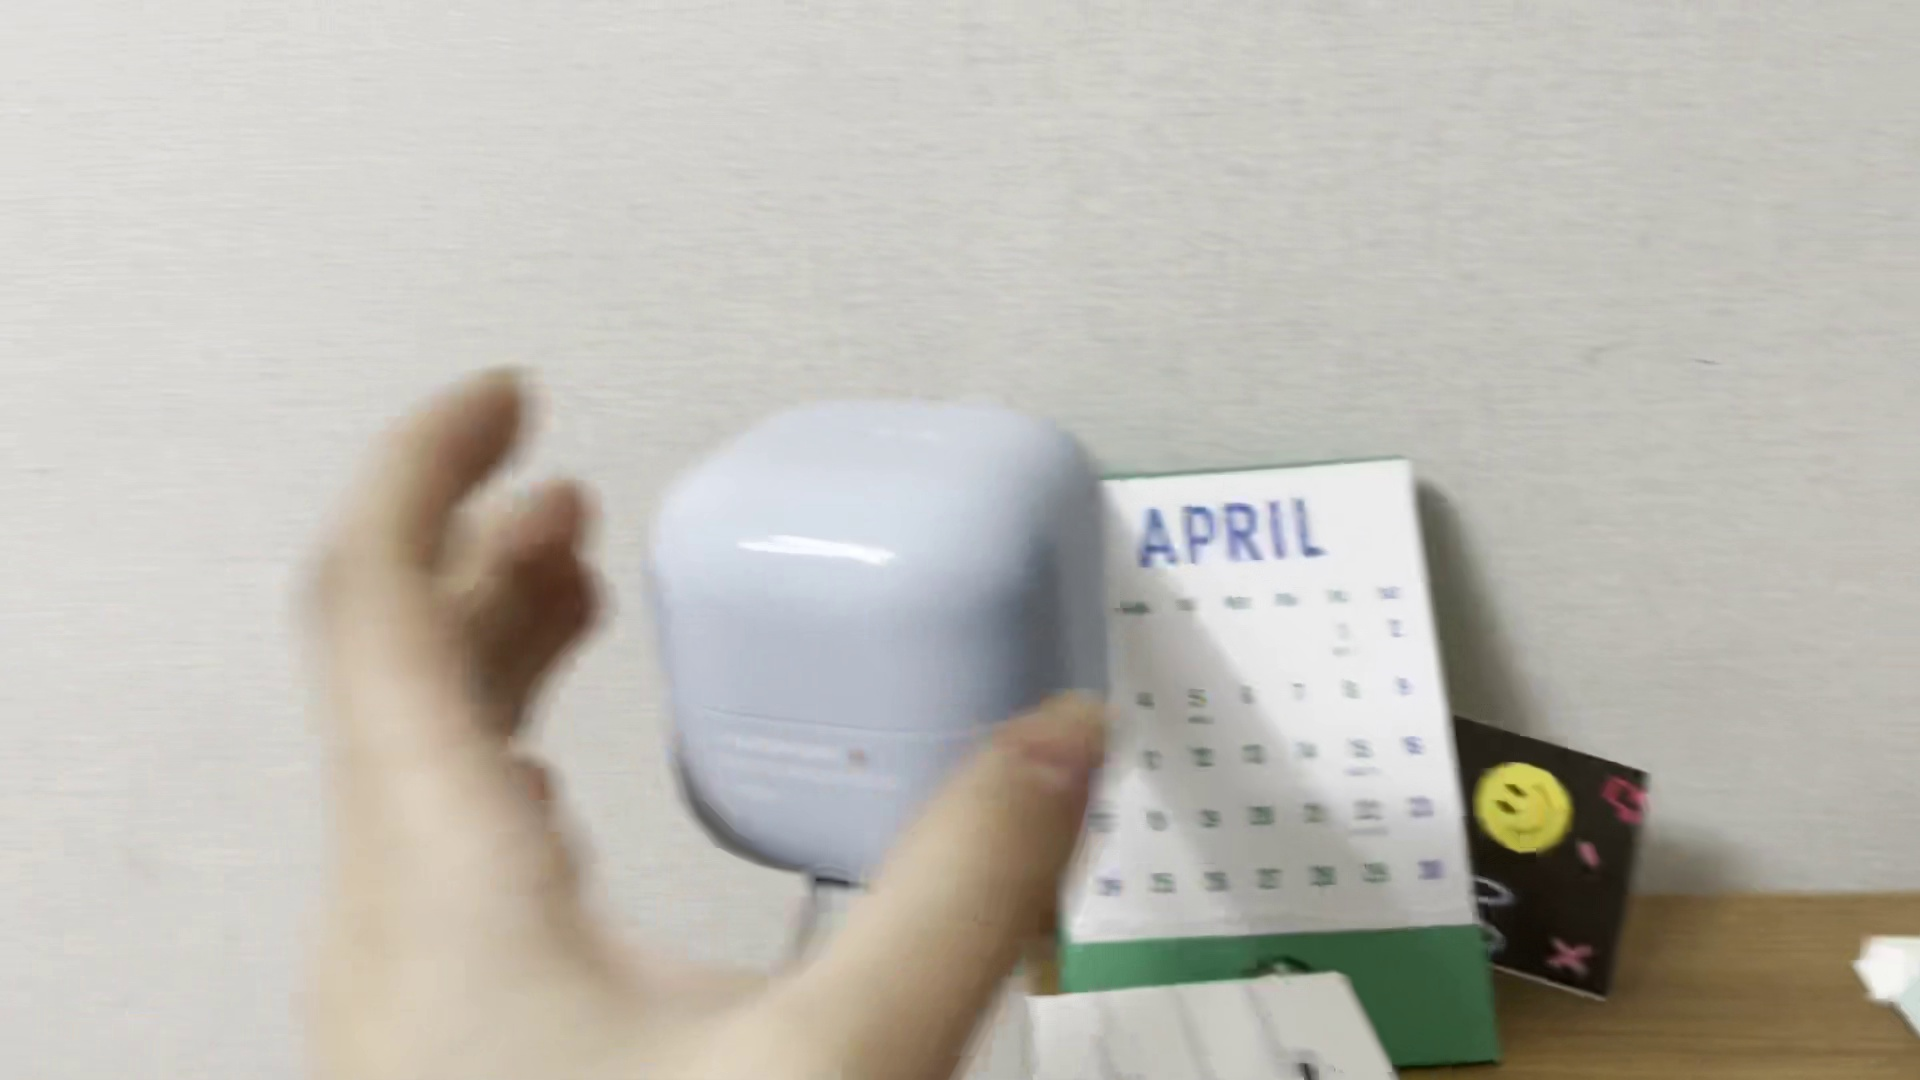cream: (638, 386, 1114, 862)
